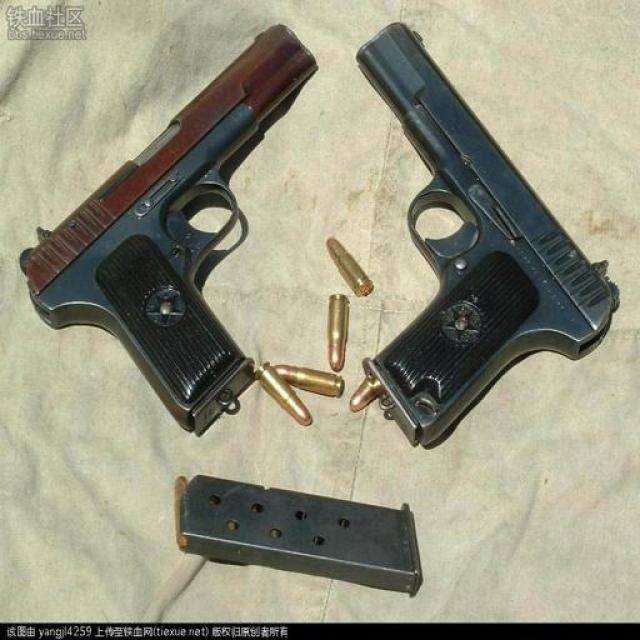pistol: (17, 17, 321, 436), (355, 21, 621, 460)
